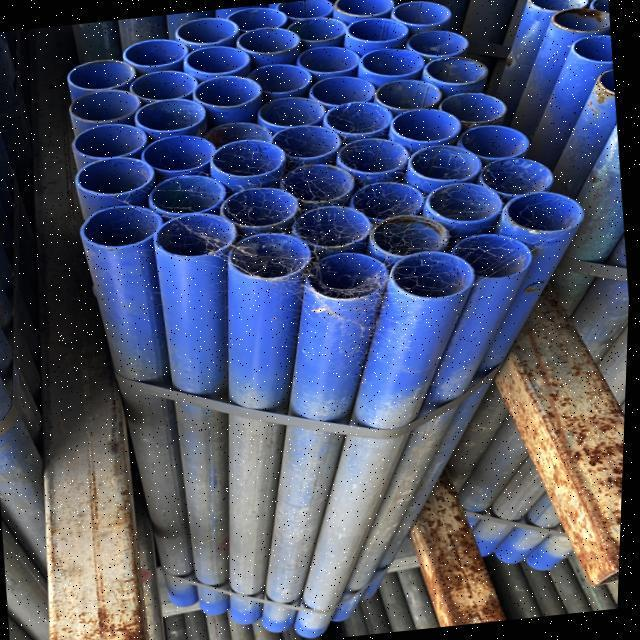pipe: (307, 247, 393, 297), (297, 202, 378, 254), (449, 229, 534, 278), (392, 250, 477, 298), (233, 230, 316, 276), (78, 203, 163, 247), (76, 153, 160, 197), (284, 160, 366, 205), (339, 181, 429, 222), (160, 210, 239, 256), (428, 179, 506, 225), (373, 212, 454, 256), (474, 154, 555, 198), (69, 121, 153, 161), (226, 186, 304, 229), (507, 190, 585, 233), (211, 137, 288, 180), (445, 120, 534, 157), (153, 173, 231, 215), (426, 89, 509, 128), (393, 106, 467, 149), (142, 134, 221, 174), (340, 135, 413, 178), (127, 93, 207, 131), (411, 144, 489, 182), (273, 122, 348, 161), (374, 75, 448, 113), (122, 68, 208, 100), (327, 98, 399, 136), (236, 64, 319, 96), (194, 73, 263, 109), (260, 95, 333, 129), (398, 25, 468, 60), (309, 74, 388, 105), (422, 53, 490, 87), (65, 57, 134, 90), (233, 26, 307, 56), (293, 43, 359, 76), (70, 88, 136, 119), (360, 47, 426, 78), (207, 120, 282, 147), (125, 37, 189, 67), (346, 16, 412, 44), (189, 44, 251, 72), (174, 17, 238, 43), (389, 0, 450, 27), (287, 15, 349, 41), (549, 8, 610, 34), (231, 8, 291, 31), (267, 0, 333, 16), (329, 0, 394, 16), (568, 35, 612, 58), (531, 0, 593, 12)
